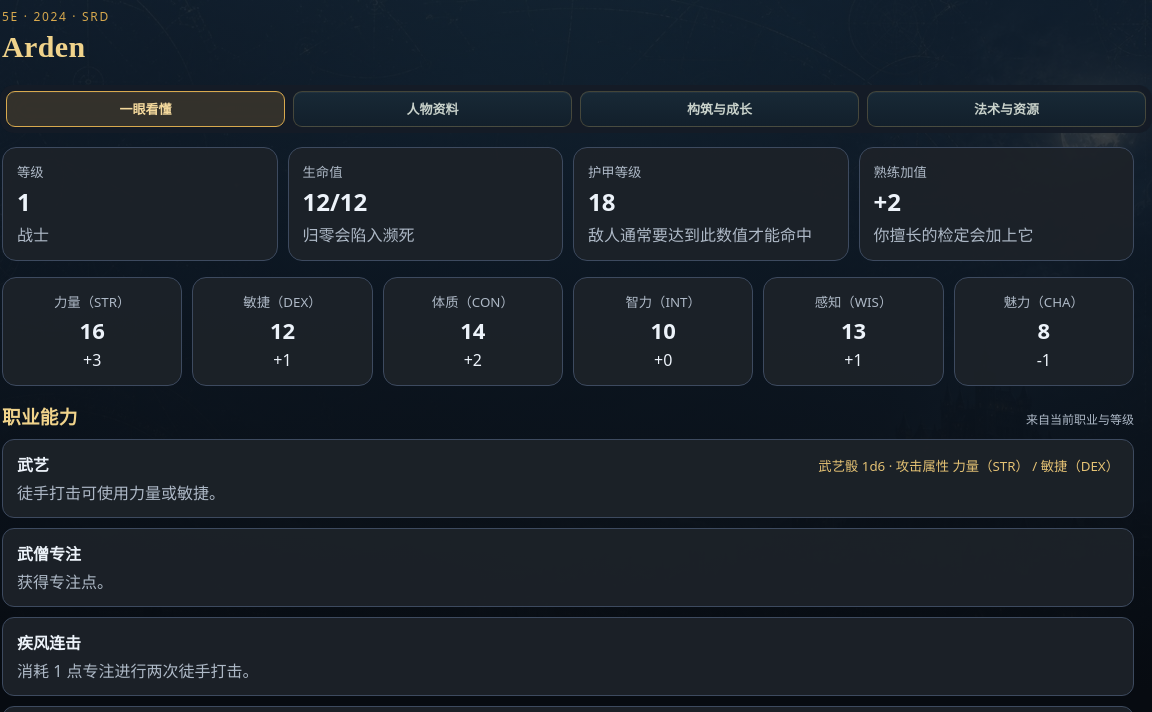
Test: ProfessionalCharacterCenter › renders the server-projected class features and class resources for a monk
Expected: the element with class "class-feature-section" shows "武艺", [17, 454, 49, 476]
Expected: the element with class "class-feature-section" shows "疾风连击", [17, 632, 81, 654]
What coordinates should you click on to do the following:
click the button "法术与资源"
I would click on:
 (1006, 108)
Its box is [867, 90, 1146, 126].
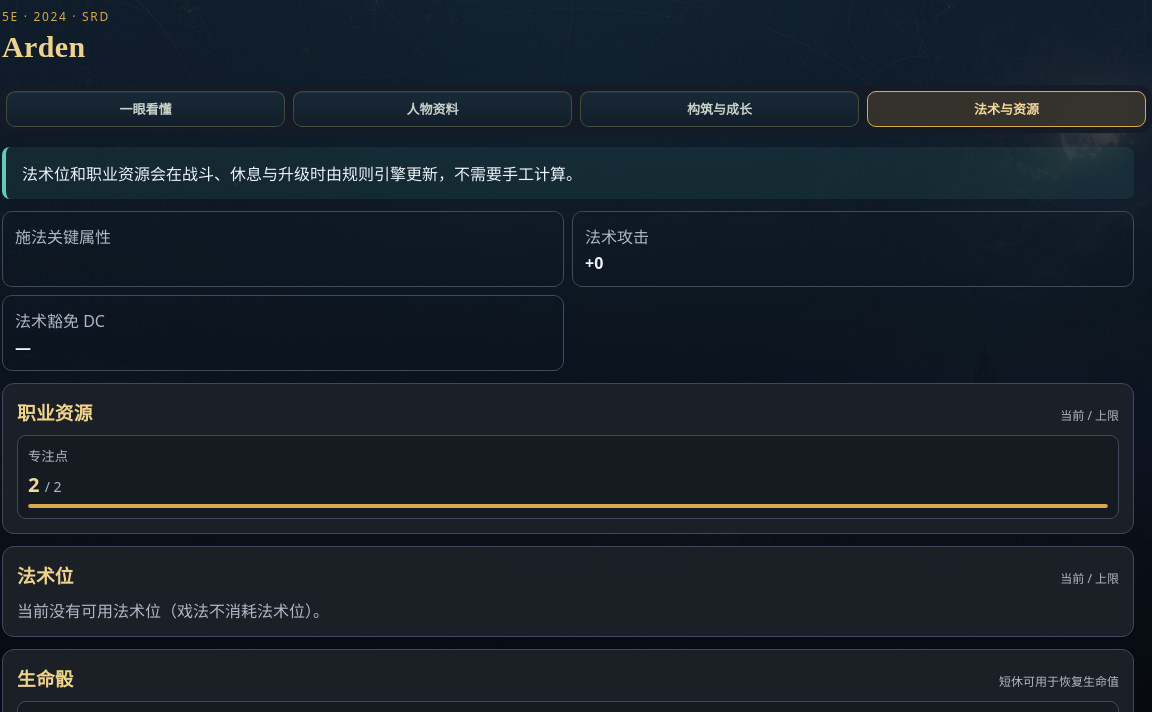
Expected: the element with class "magic-panel" shows "专注点", [28, 446, 68, 464]
Now the element with class "magic-panel" shows "职业资源", box [17, 402, 93, 424]
Now the element with class "class-resource-section" shows "2 / 2", box [2, 382, 1134, 534]
